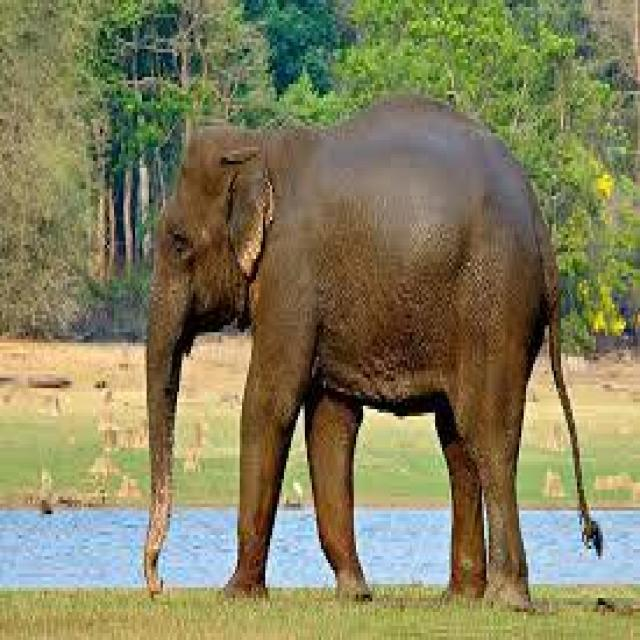Elephant: (140, 88, 605, 602)
